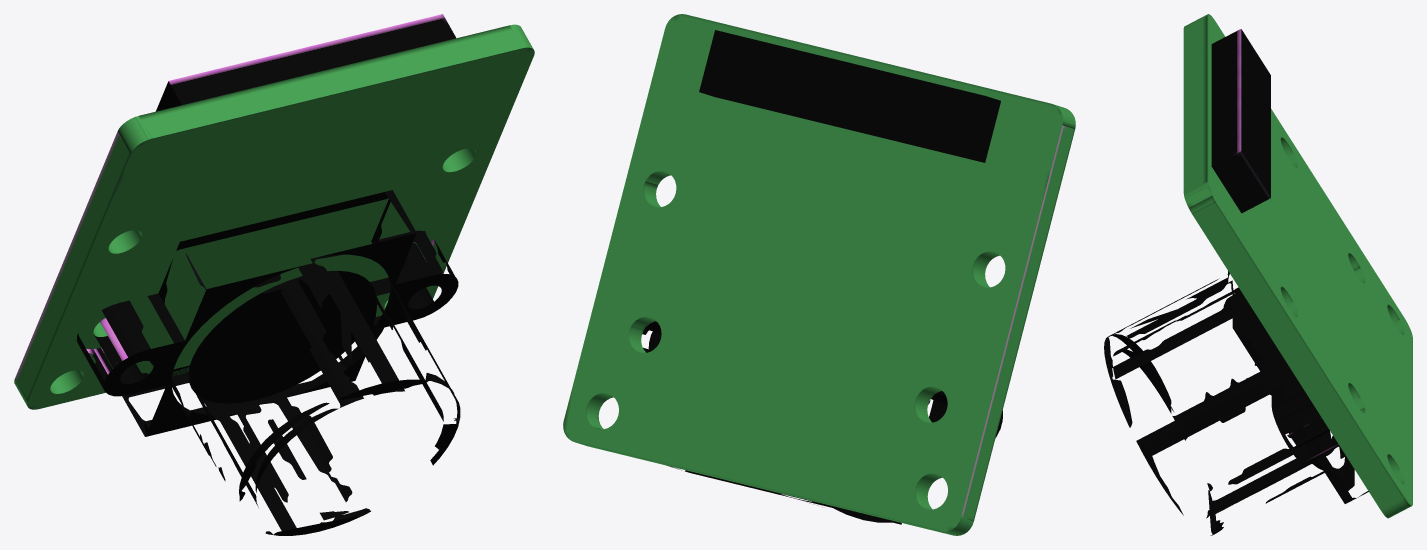
The model's file is camera_right.dae.
The picture shows the model from 3 angles, left to right: view 1: azimuth 30°, elevation 25°; view 2: azimuth 150°, elevation 25°; view 3: azimuth 270°, elevation 25°; orthographic projection. The views are drawn at different scales.
Visible parts, largest first — view 1: tmp_export_camera_right; view 2: tmp_export_camera_right; view 3: tmp_export_camera_right.
Part boxes in pixels (<box>): tmp_export_camera_right: <box>14,14,534,535</box>; tmp_export_camera_right: <box>563,14,1075,535</box>; tmp_export_camera_right: <box>1104,14,1412,535</box>.
Size of the model in its own units: 0.025 by 0.0181 by 0.0281.
1 material, 1 textured.
